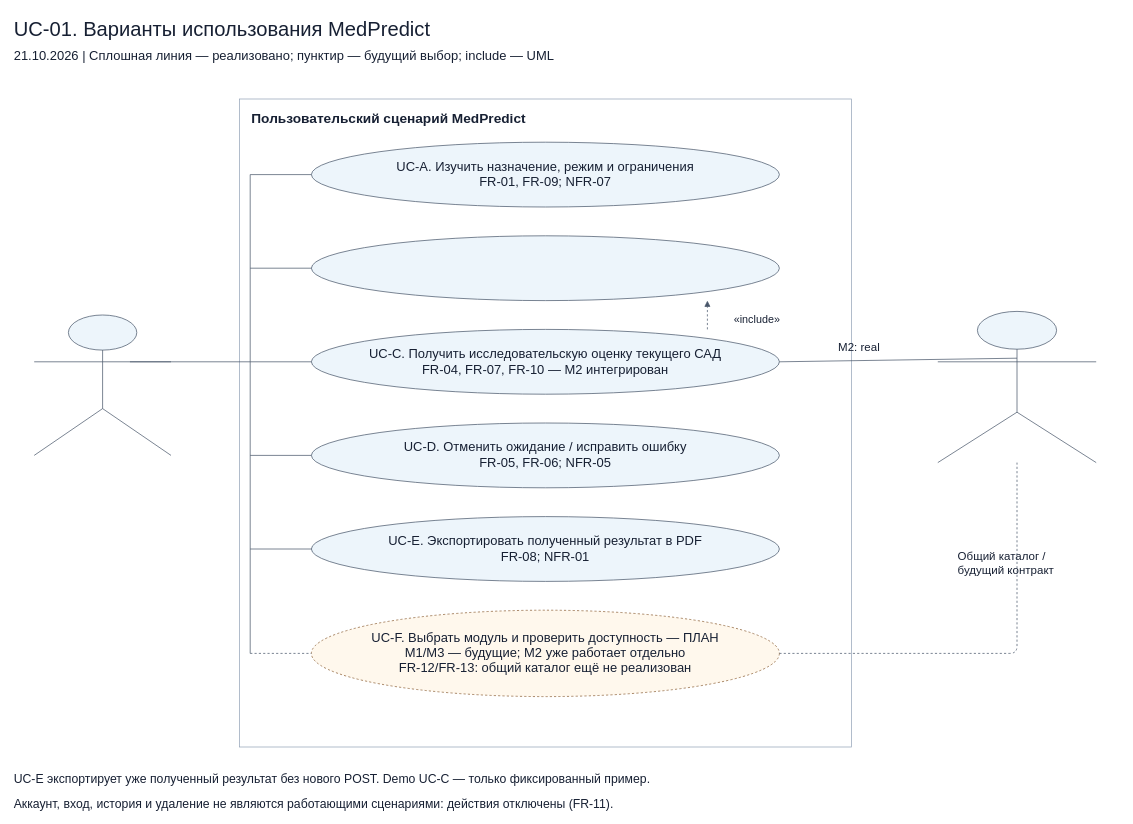
This 1133x824 diagram has some shape labels left out. Here are the shapes that lost their labels. From the top down, the centre of each, then its label:
At pixel 545 268: "UC-B. Ввести и проверить показатели FR-02, FR-03; NFR-02, NFR-03".
At pixel 102 384: "Участник демонстрации".
At pixel 1016 387: "Сервис оценки M2 Spring Boot / ONNX".
